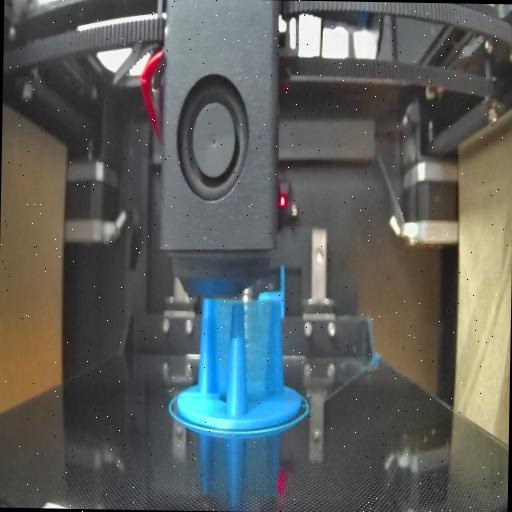stringing: (243, 300, 278, 412), (206, 300, 232, 404)
